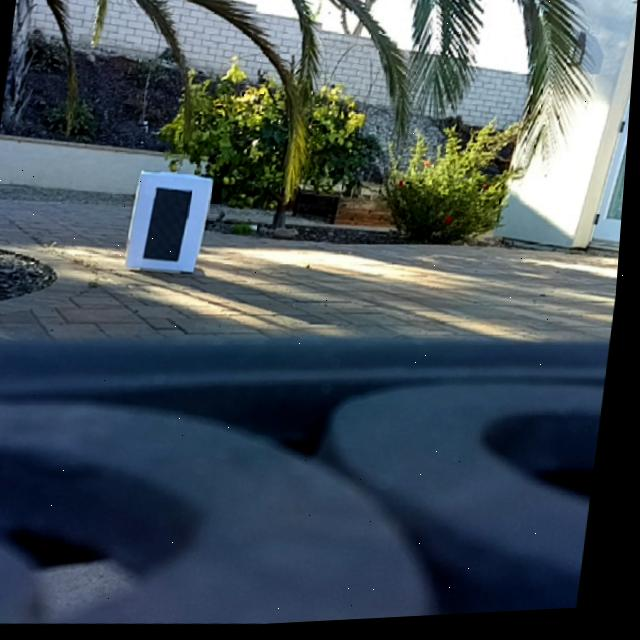led: (145, 185, 199, 267)
